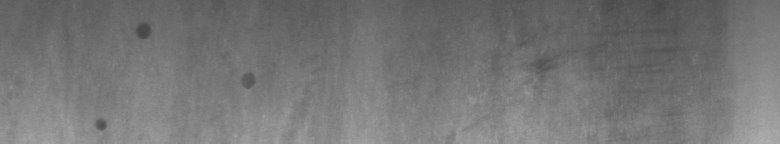fi: (92, 16, 156, 136)
